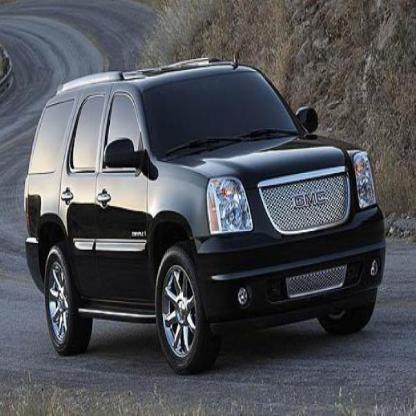Vehicle: (23, 49, 388, 378)
